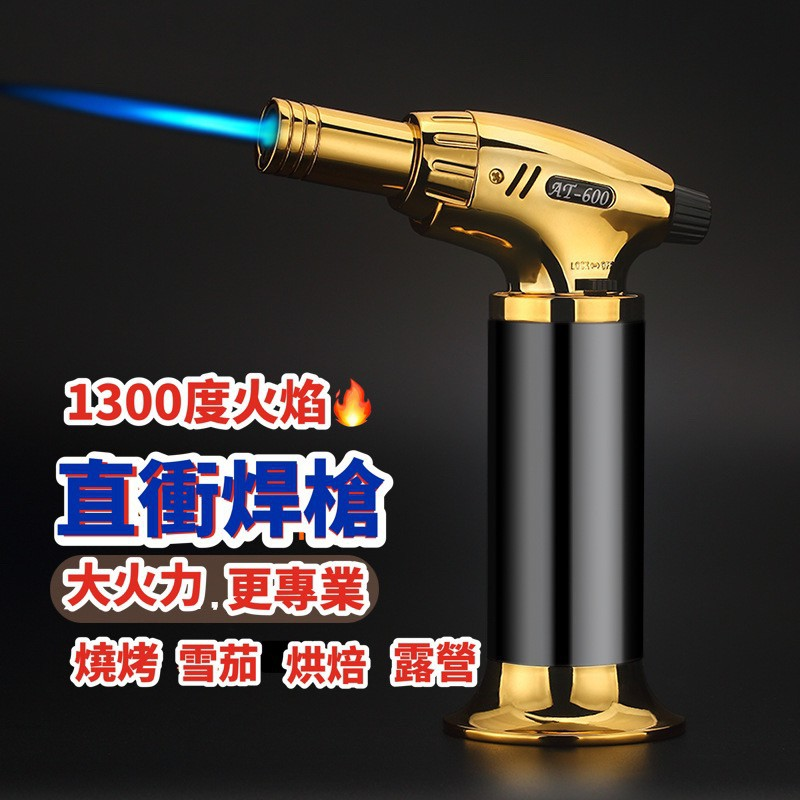gastorch: (244, 77, 723, 747)
